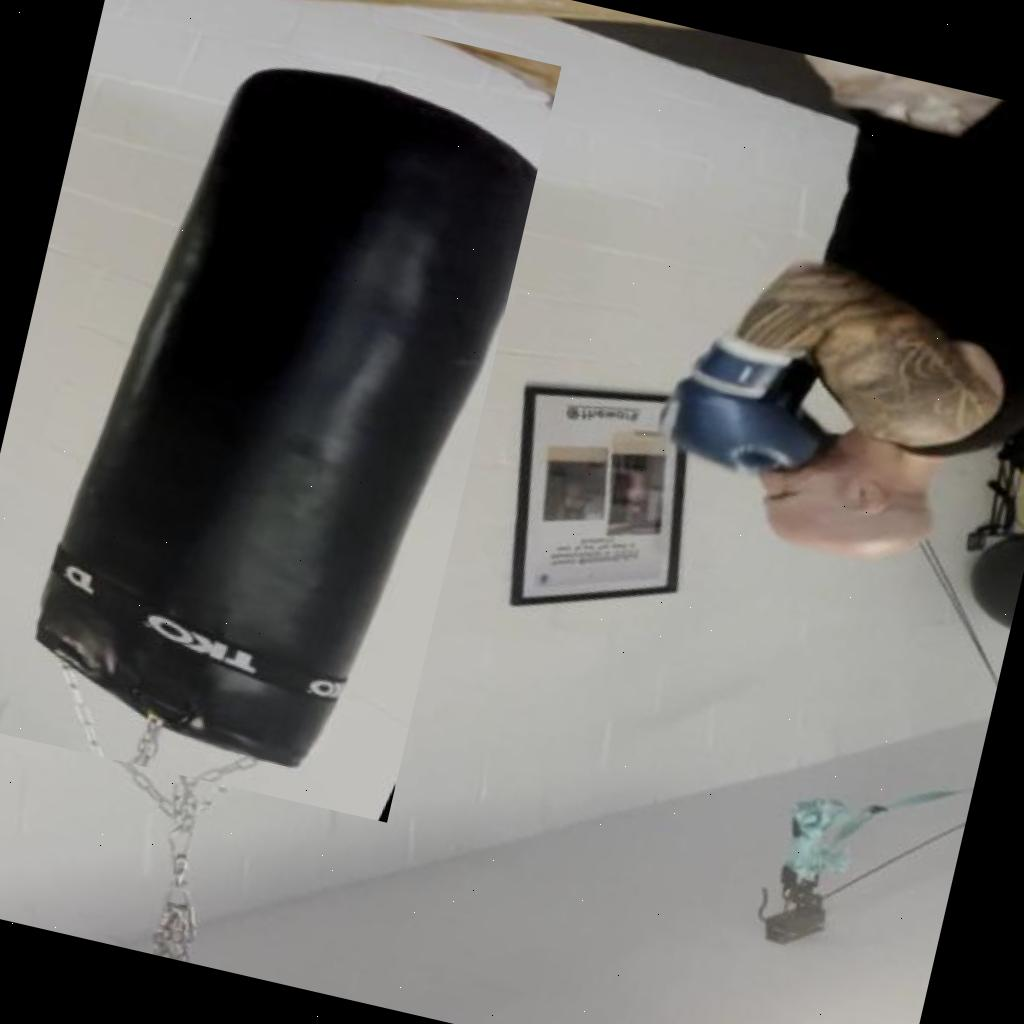bag: (0, 0, 561, 823)
no punch: (581, 162, 1024, 671)
